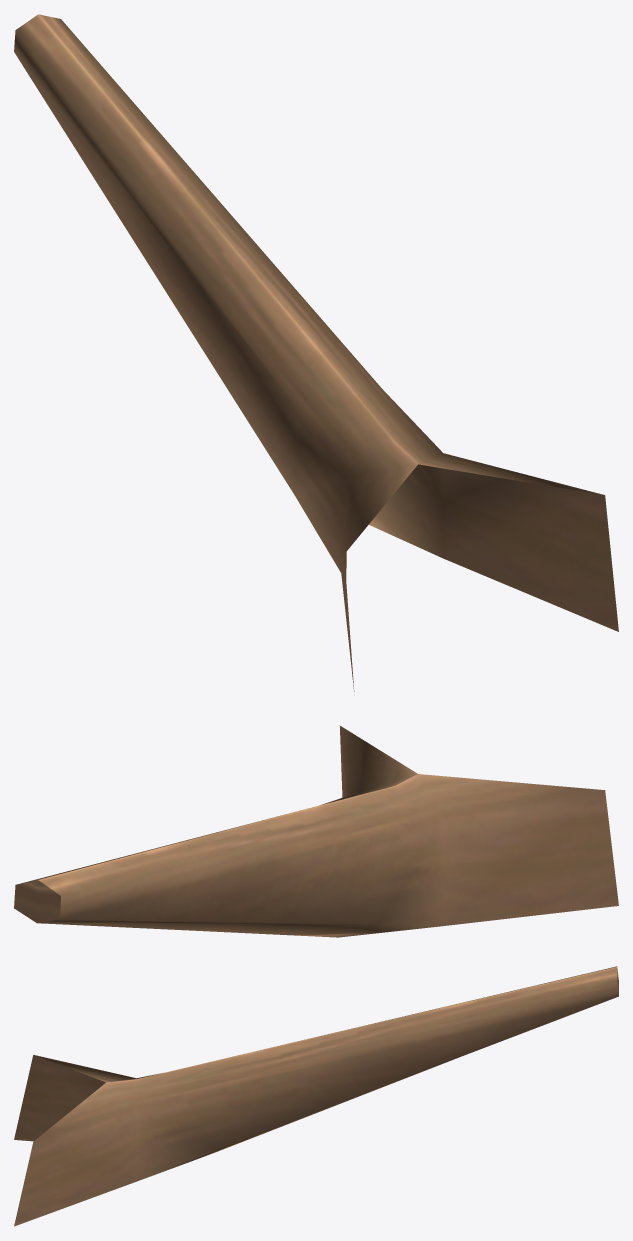
Rendered from A_HA_GEN_Ship_Bowsprit_01.fbx.
3 renders of one model, top to bottom at view 1: azimuth 30°, elevation 25°; view 2: azimuth 150°, elevation 25°; view 3: azimuth 270°, elevation 25°, orthographic. The views are drawn at different scales.
Parts seen in each view (by area): view 1: A_HA_Gen_Ship_Bowsprit_01; view 2: A_HA_Gen_Ship_Bowsprit_01; view 3: A_HA_Gen_Ship_Bowsprit_01.
Boxes of the visible parts, x1=… form: A_HA_Gen_Ship_Bowsprit_01: x1=14, y1=14, x2=618, y2=691; A_HA_Gen_Ship_Bowsprit_01: x1=14, y1=725, x2=618, y2=937; A_HA_Gen_Ship_Bowsprit_01: x1=14, y1=966, x2=618, y2=1226.
Bounding box in the file's own units: 439 × 509 × 1289.
1 material, 1 textured.
